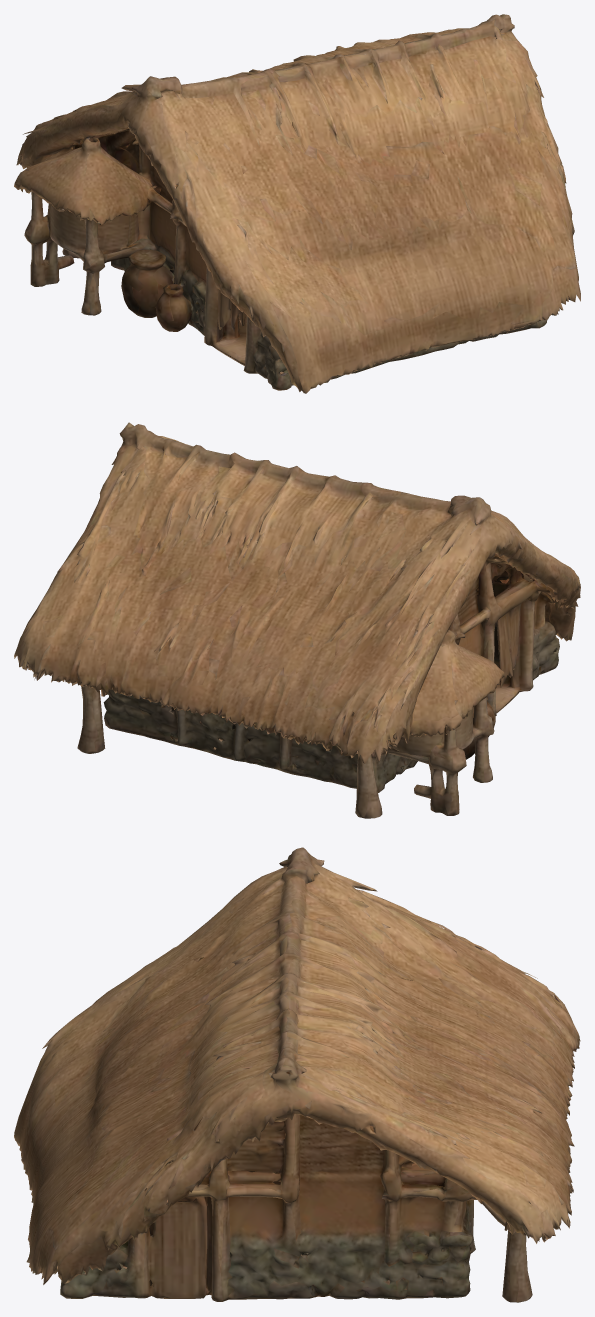
File: farm.glb
3 renders of one model, top to bottom at view 1: azimuth 30°, elevation 25°; view 2: azimuth 150°, elevation 25°; view 3: azimuth 270°, elevation 25°, orthographic. The views are drawn at different scales.
Parts seen in each view (by area): view 1: world; view 2: world; view 3: world.
Part boxes in pixels (x1,y1,x2,y2): world: (14,14,580,393); world: (14,422,580,818); world: (14,847,580,1302).
Bounding box in the file's own units: 0.9784 × 0.5572 × 0.9874.
Materials: 1 (1 with a texture image).
